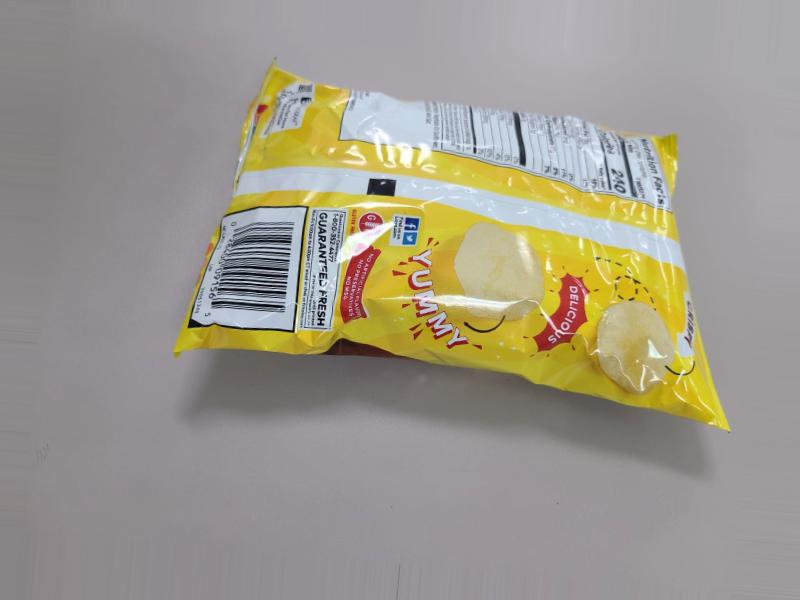lays: (264, 74, 800, 365)
